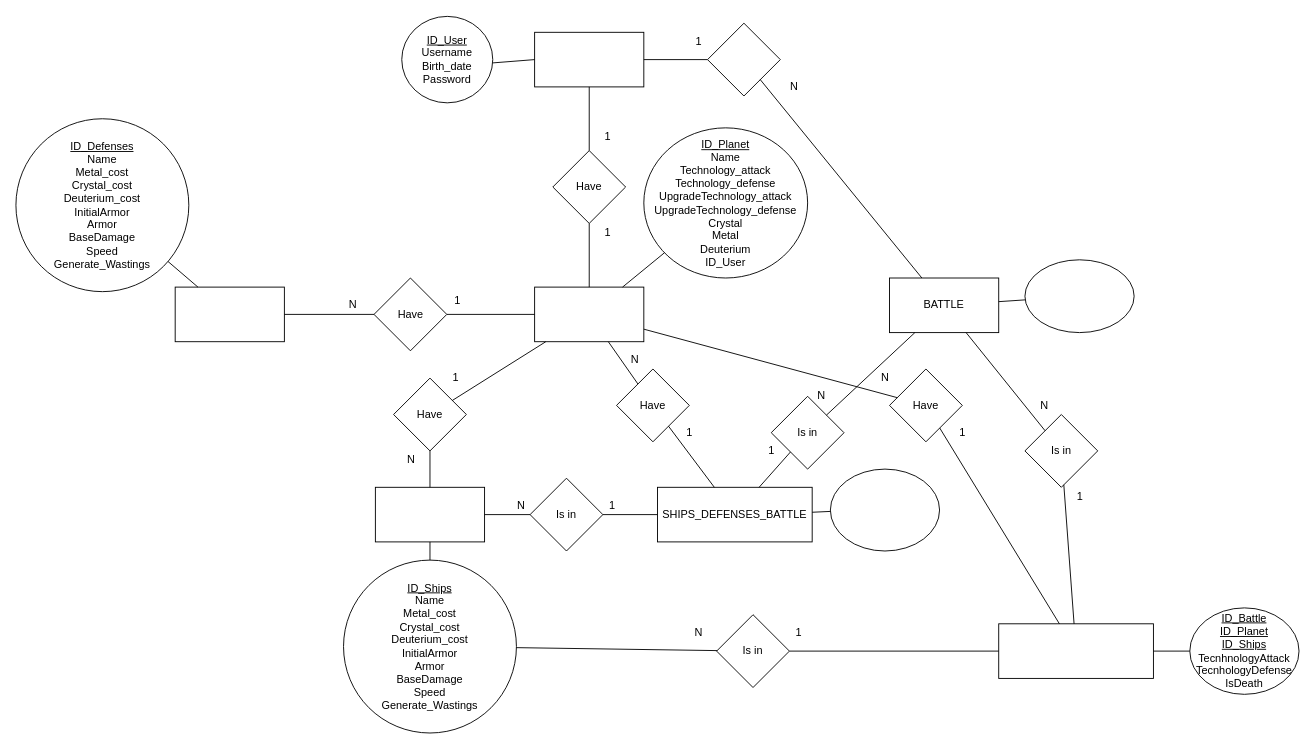
This 1315x749 diagram has some shape labels left out. The shapes that lost their labels are listed below. From the top down, each one's centre as x and y in pixels, then its label:
the point at 589,59: USERS
the point at 743,59: Play
the point at 229,314: DEFENSES
the point at 589,314: PLANETS
the point at 1079,296: ID_Battle ID_User ID_Step Step
the point at 429,514: SHIPS
the point at 884,509: ID_Battle ID_Planet ID_Ships QuantityInitial QuantityFinal
the point at 1075,650: BATTLE_DETAILS
